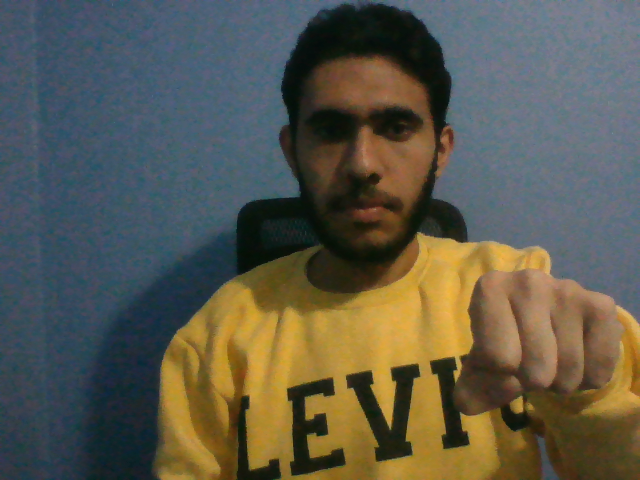yes: (450, 265, 623, 416)
